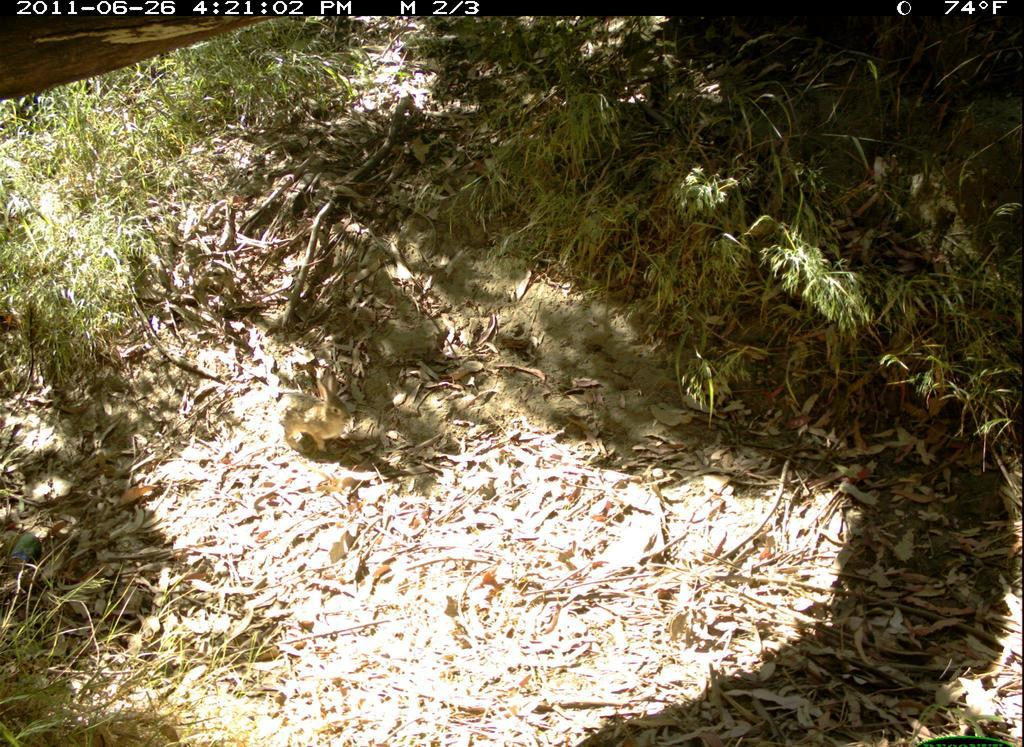rabbit: (273, 367, 355, 457)
